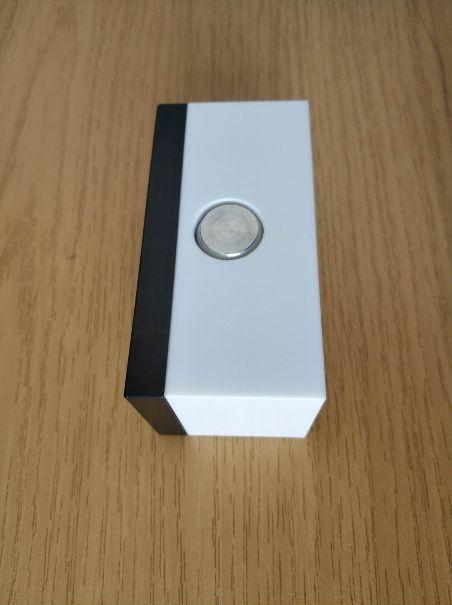black+white+silver: (120, 96, 328, 442)
